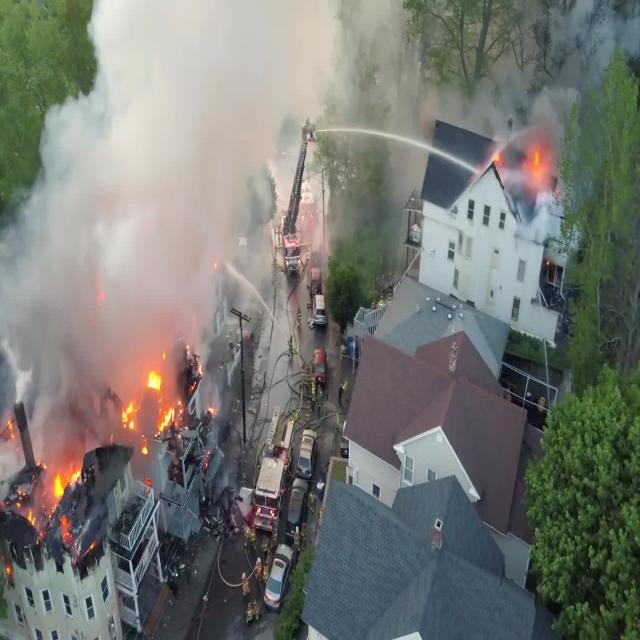smoke: (94, 3, 406, 256), (2, 103, 91, 393)
